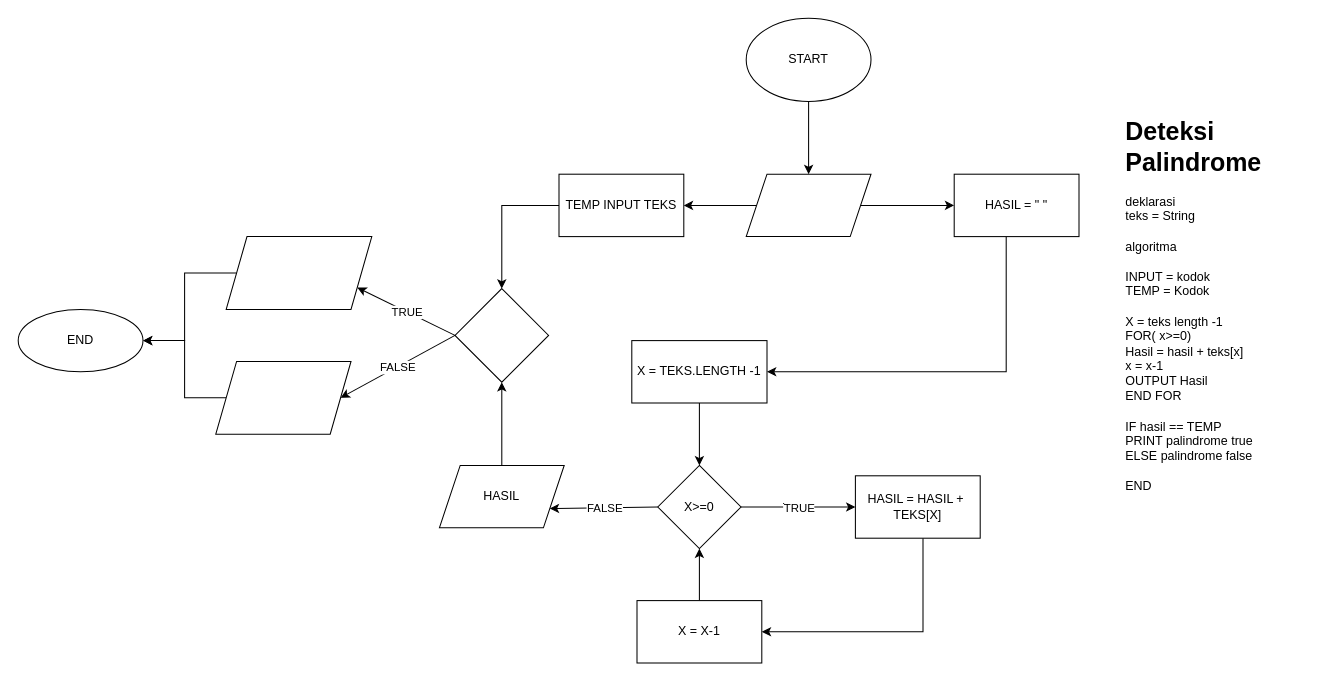
The diagram is 1336 pixels wide and 692 high, and some of its shapes have lost their labels. The centre of each missing label's shape, as x and y in pixels:
"CETAK HASIL PALINDROM FALSE" goes at point (283, 397).
"CETAK HASIL PALINDROM TRUE" goes at point (298, 272).
"IF TEMP == HASIL" goes at point (501, 335).
"INPUT TEKS" goes at point (808, 205).
